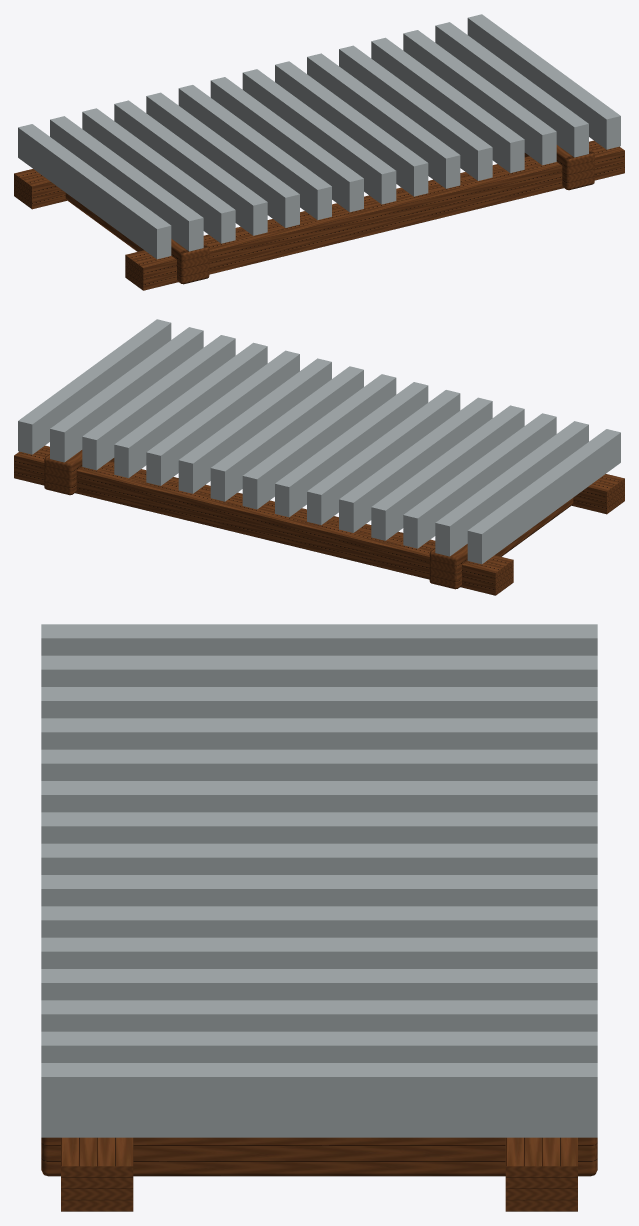
Rendered from rural-scavenging-settlements-rural-drain-crossing-d9b8c262__26610.glb.
The picture shows the model from 3 angles, top to bottom: view 1: azimuth 30°, elevation 25°; view 2: azimuth 150°, elevation 25°; view 3: azimuth 270°, elevation 25°; orthographic projection. The views are drawn at different scales.
Parts seen in each view (by area): view 1: rural-drain-crossing; view 2: rural-drain-crossing; view 3: rural-drain-crossing.
Part boxes in pixels (left/top/right/bottom): rural-drain-crossing: left=14, top=14, right=624, bottom=290; rural-drain-crossing: left=14, top=319, right=624, bottom=595; rural-drain-crossing: left=41, top=624, right=597, bottom=1211.
Bounding box in the file's own units: 2 × 0.2499 × 1.
2 materials, 1 textured.
